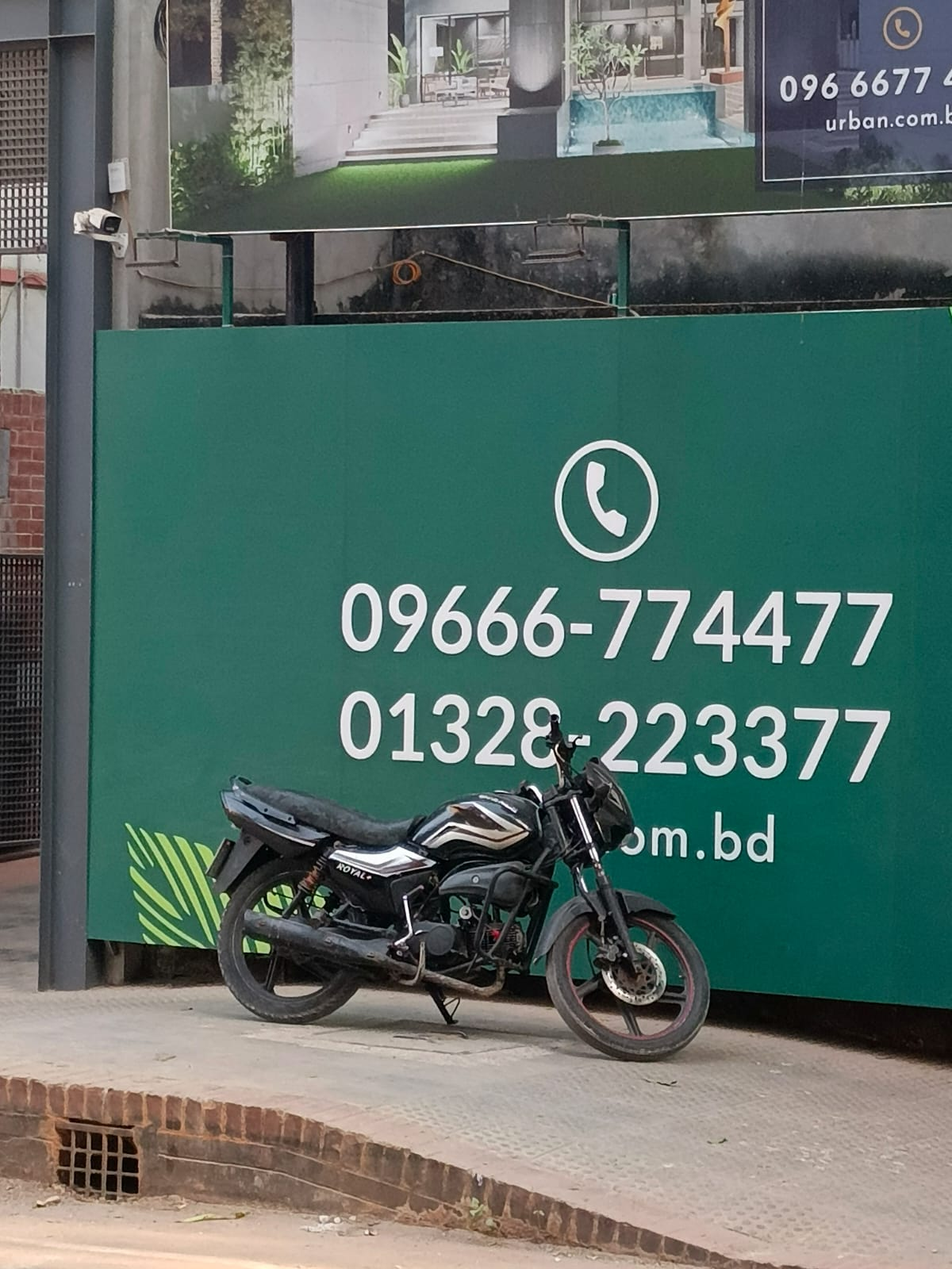Bikes: (169, 683, 878, 1128)
